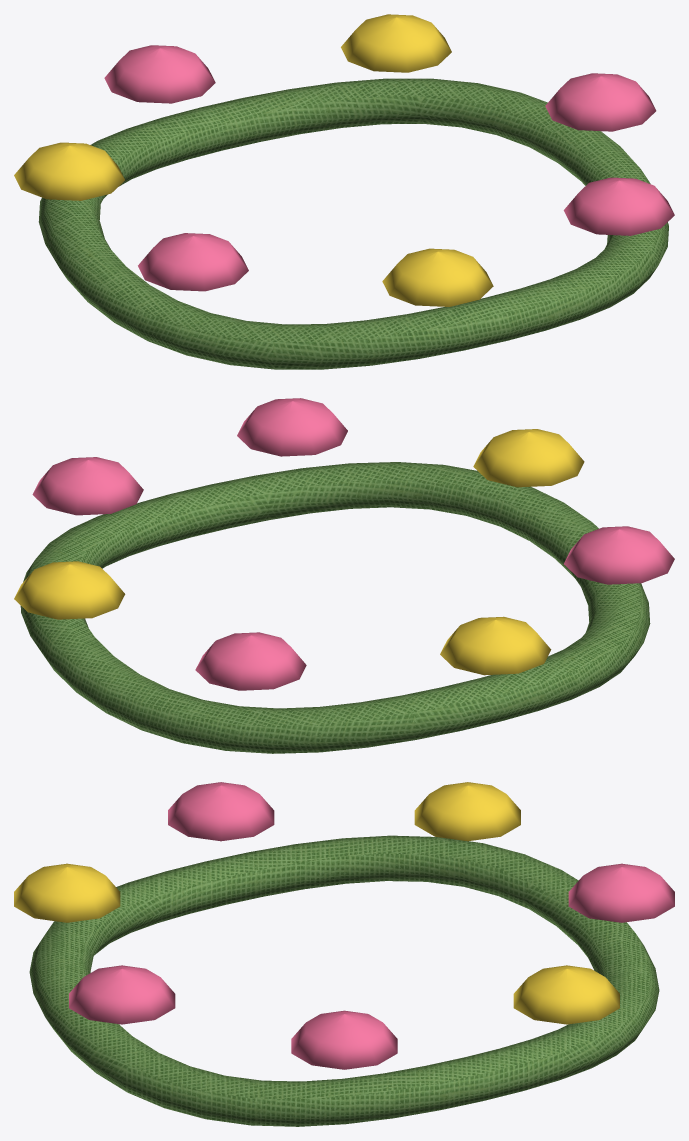
Rendered from crown.glb.
3 renders of one model, top to bottom at view 1: azimuth 30°, elevation 25°; view 2: azimuth 150°, elevation 25°; view 3: azimuth 270°, elevation 25°, orthographic.
Visible parts, largest first — view 1: FlowerCrown; view 2: FlowerCrown; view 3: FlowerCrown.
Boxes of the visible parts, <box> form: FlowerCrown: <box>14,14,674,369</box>; FlowerCrown: <box>14,398,674,753</box>; FlowerCrown: <box>14,782,674,1126</box>.
Bounding box in the file's own units: 0.258 × 0.0504 × 0.2602.
3 materials, 1 textured.
